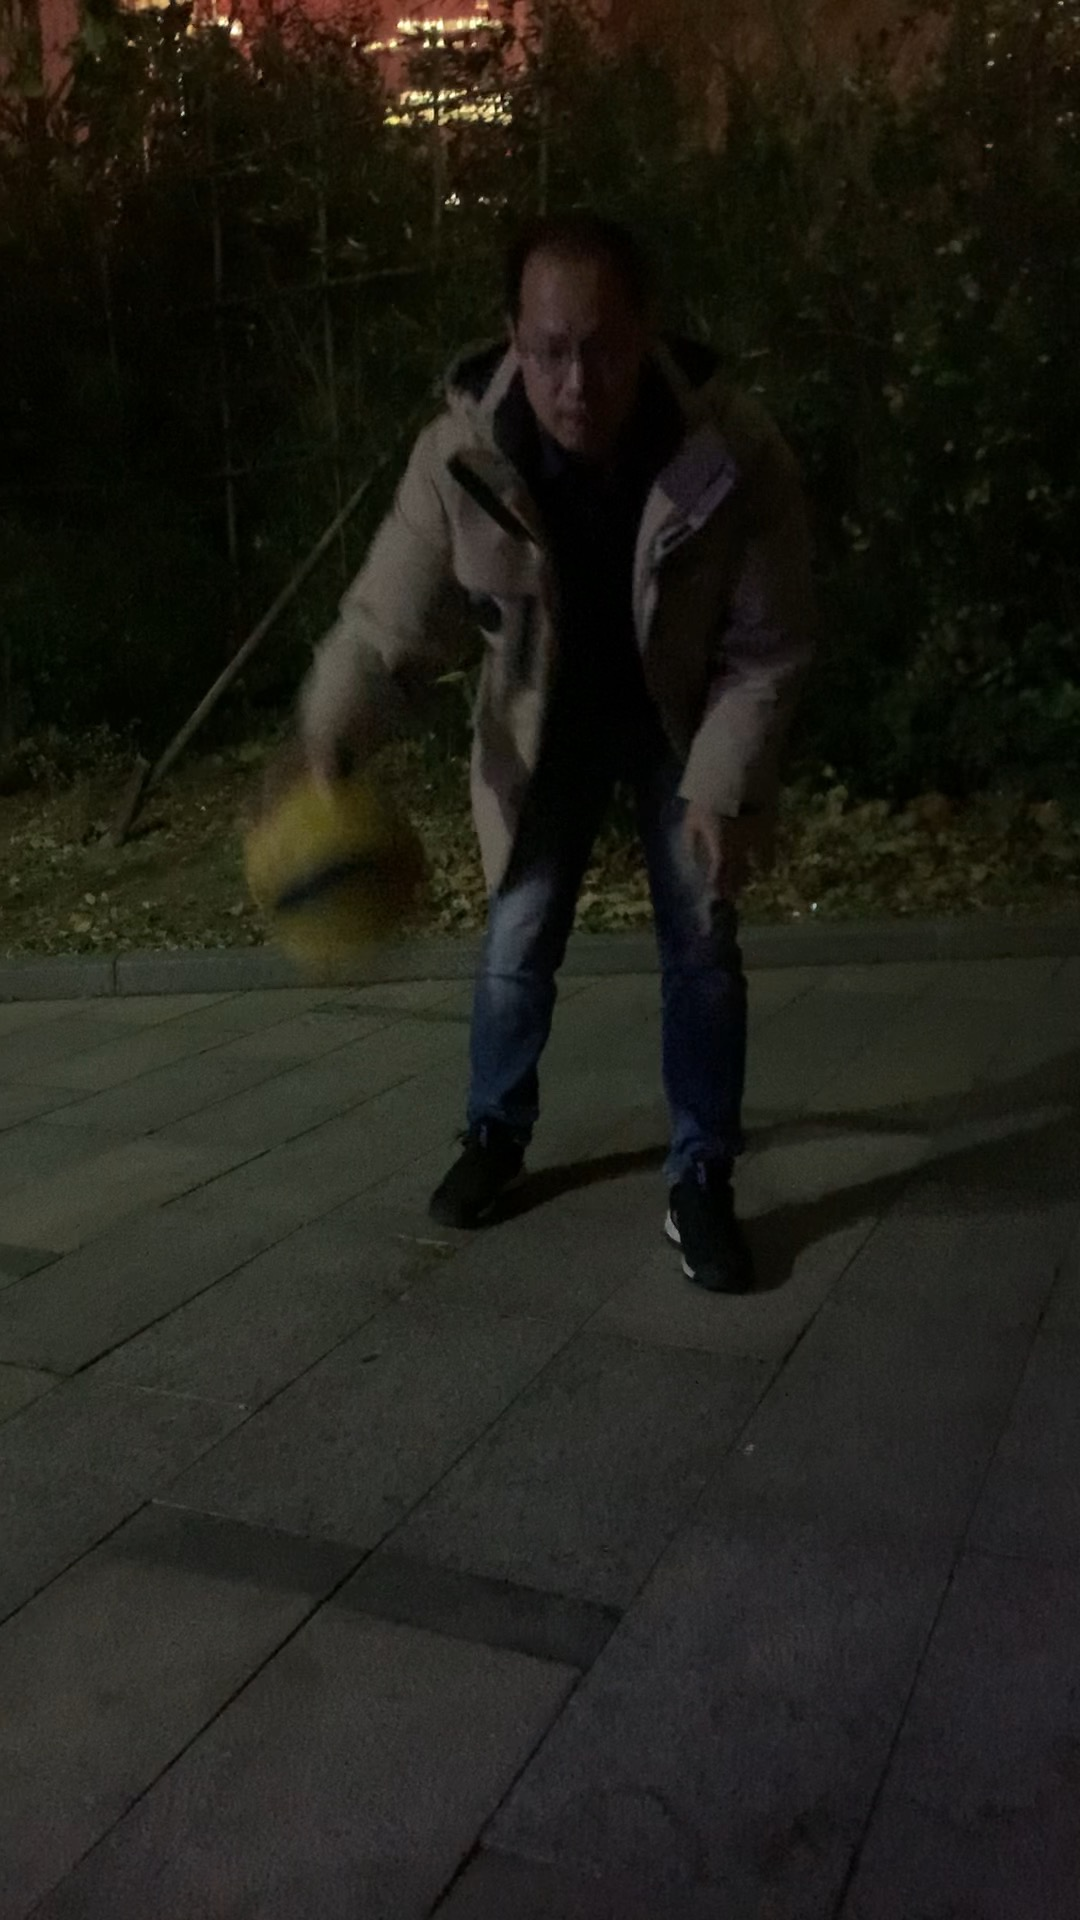ball: (237, 778, 448, 955)
